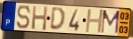4: (68, 8, 80, 32)
D: (49, 6, 67, 32)
H: (85, 9, 105, 34), (31, 5, 49, 32)
M: (100, 10, 121, 35)
S: (16, 4, 32, 30)
